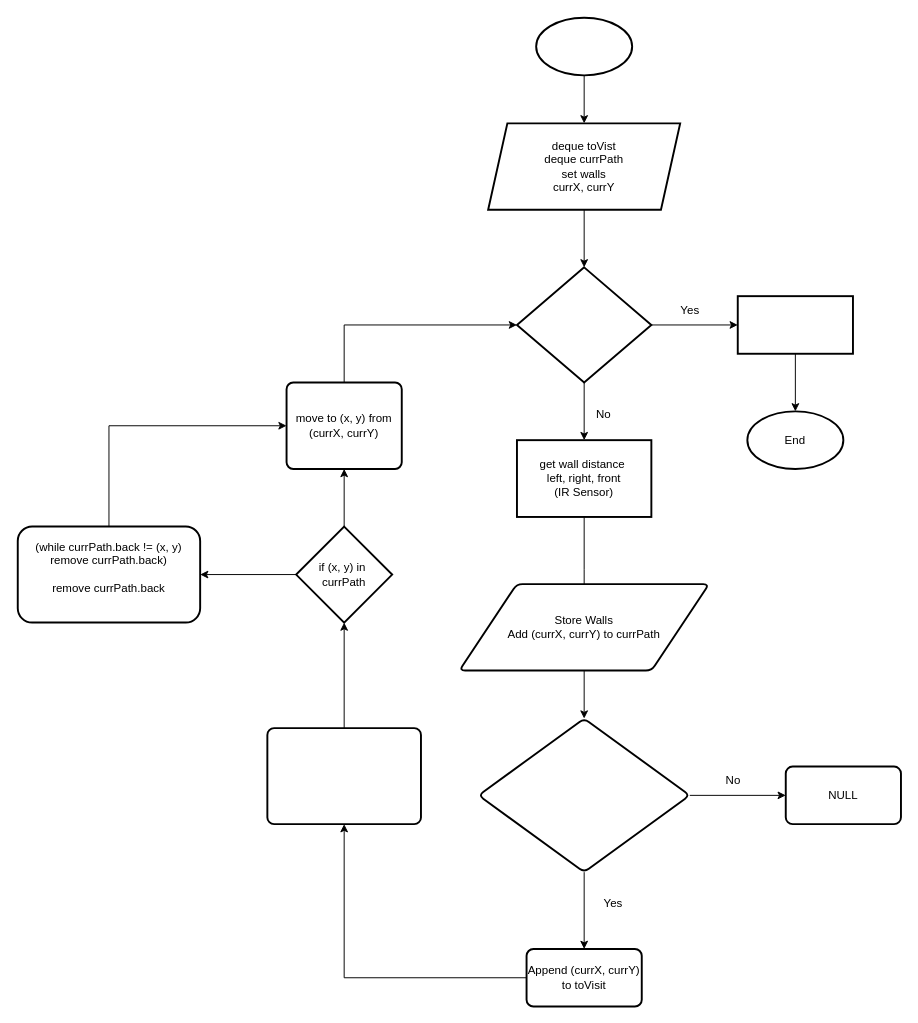
The diagram is 918 pixels wide and 1023 high, and some of its shapes have lost their labels. Here are the shapes that lost their labels. From the top down, the centre of each, then its label:
pixel 584 46: START
pixel 584 324: if (currX, currY) = (centerX, centerY)
pixel 794 324: return Path
pixel 343 776: Remove back of toVisit (x, y)
pixel 583 795: if cell accessible and has least manhattan distance from centers
